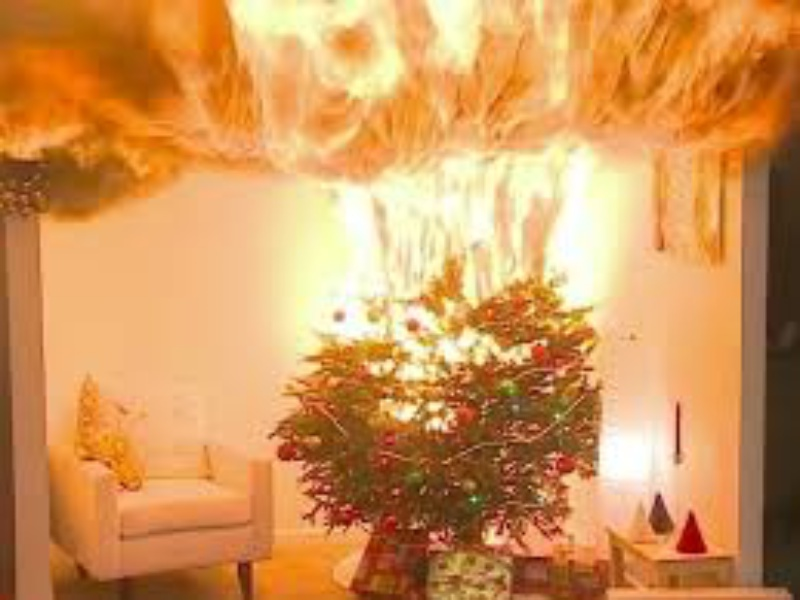fire: (312, 120, 623, 337)
